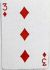three: (1, 1, 48, 69)
